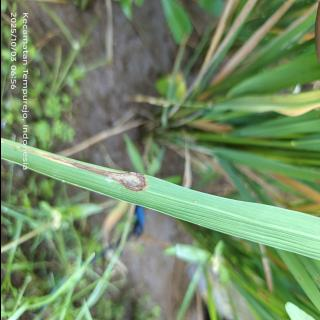Blast: (26, 145, 146, 195)
